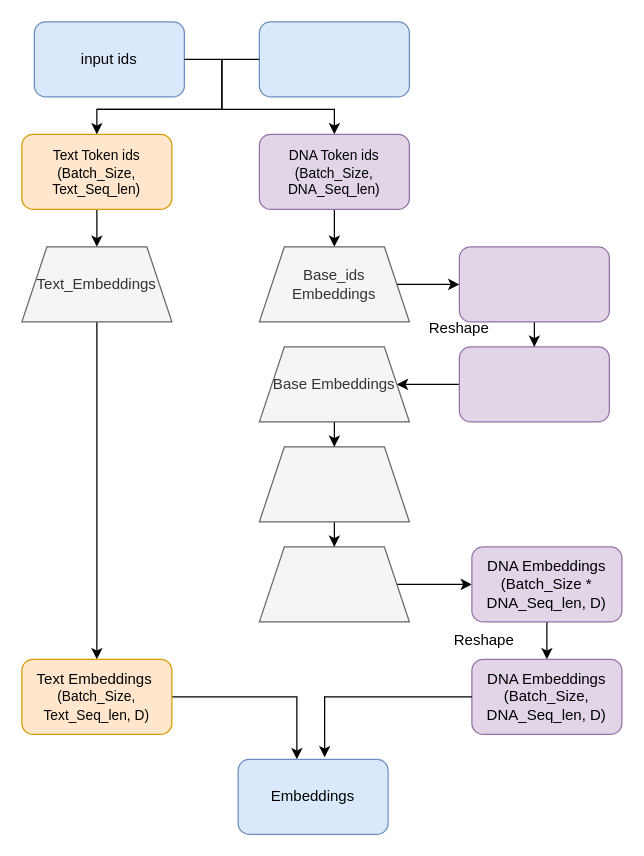
The diagram is 644 pixels wide and 856 high, and some of its shapes have lost their labels. Each missing label, with the centre of its shape:
"DNA Base Ids (Batch_Size * DNA_Seq_len, Max_BPE_len)" goes at (533,384).
"DNA Base Ids (Batch_Size, DNA_Seq_len, Max_BPE_len)" goes at (533,284).
"Encoder" goes at (333,484).
"Head" goes at (333,584).
"modality mask" goes at (333,59).
